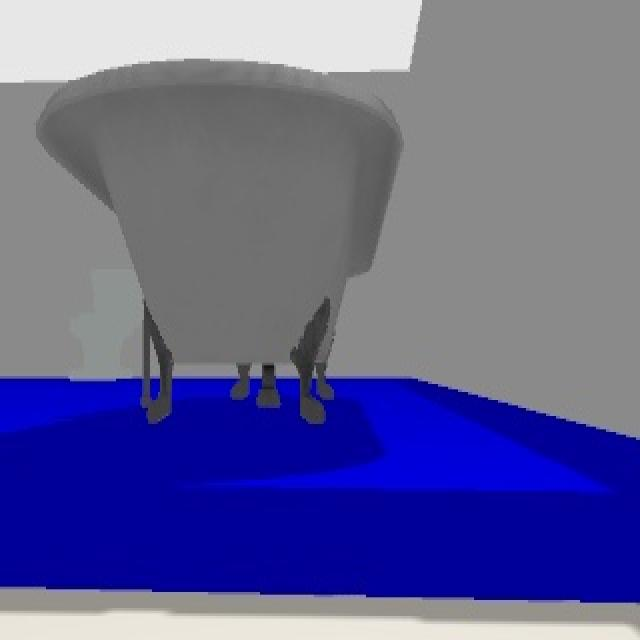bathtub: (36, 61, 408, 427)
